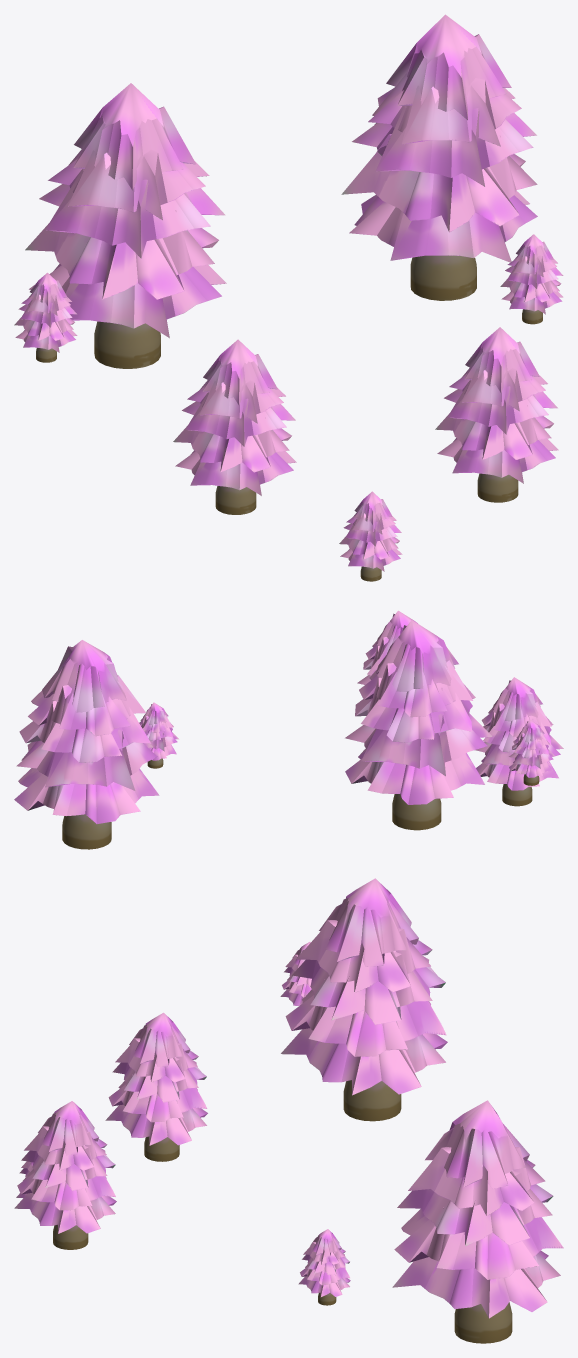
The model's file is pinktrees_animation.fbx.
The picture shows the model from 3 angles, top to bottom: view 1: azimuth 30°, elevation 25°; view 2: azimuth 150°, elevation 25°; view 3: azimuth 270°, elevation 25°; orthographic projection. The views are drawn at different scales.
Visible parts, largest first — view 1: group26_pasted__pCone2.016; view 2: group26_pasted__pCone2.016; view 3: group26_pasted__pCone2.016.
Part boxes in pixels (x1,y1,x2,y2): group26_pasted__pCone2.016: (14, 14, 563, 581); group26_pasted__pCone2.016: (14, 610, 563, 849); group26_pasted__pCone2.016: (14, 878, 563, 1343).
Size of the model in its own units: 23014 by 13106 by 20650.
Materials: 7 (7 with a texture image).
